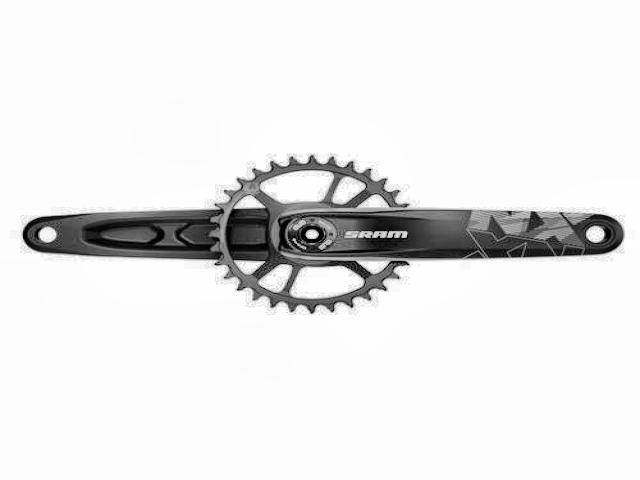cranks_set: (206, 154, 629, 319)
